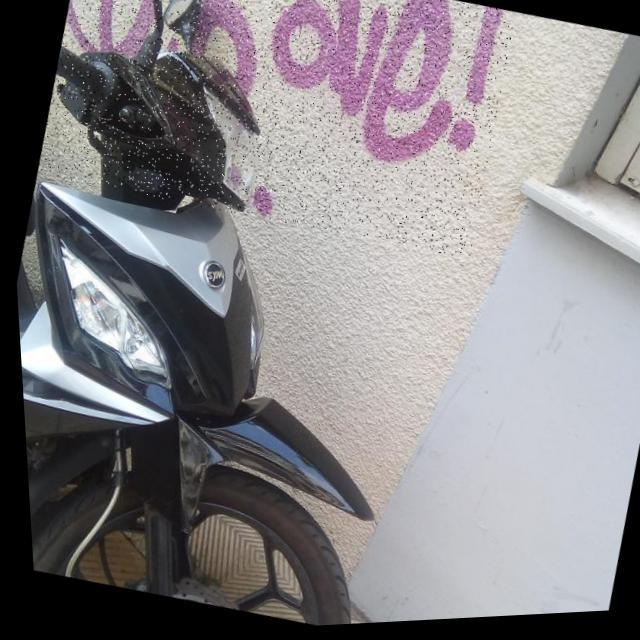-: (26, 0, 526, 281)
